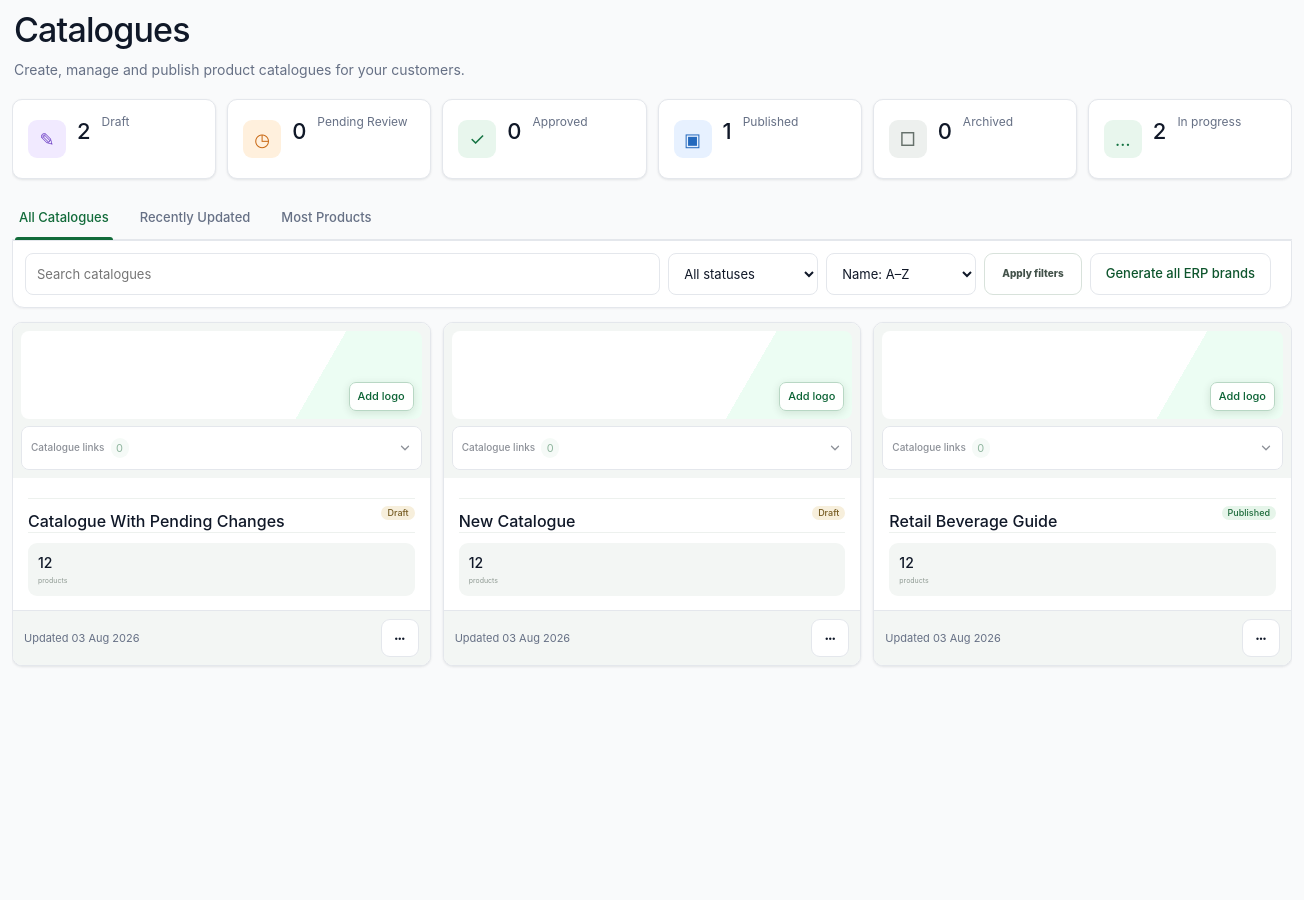
Test: CatalogueManagement preview action › shows lifecycle actions from public access and draft state
The width and height of the screenshot is (1304, 900).
Click the button named "More catalogue actions".
click(1261, 638)  # box [1242, 619, 1280, 657]
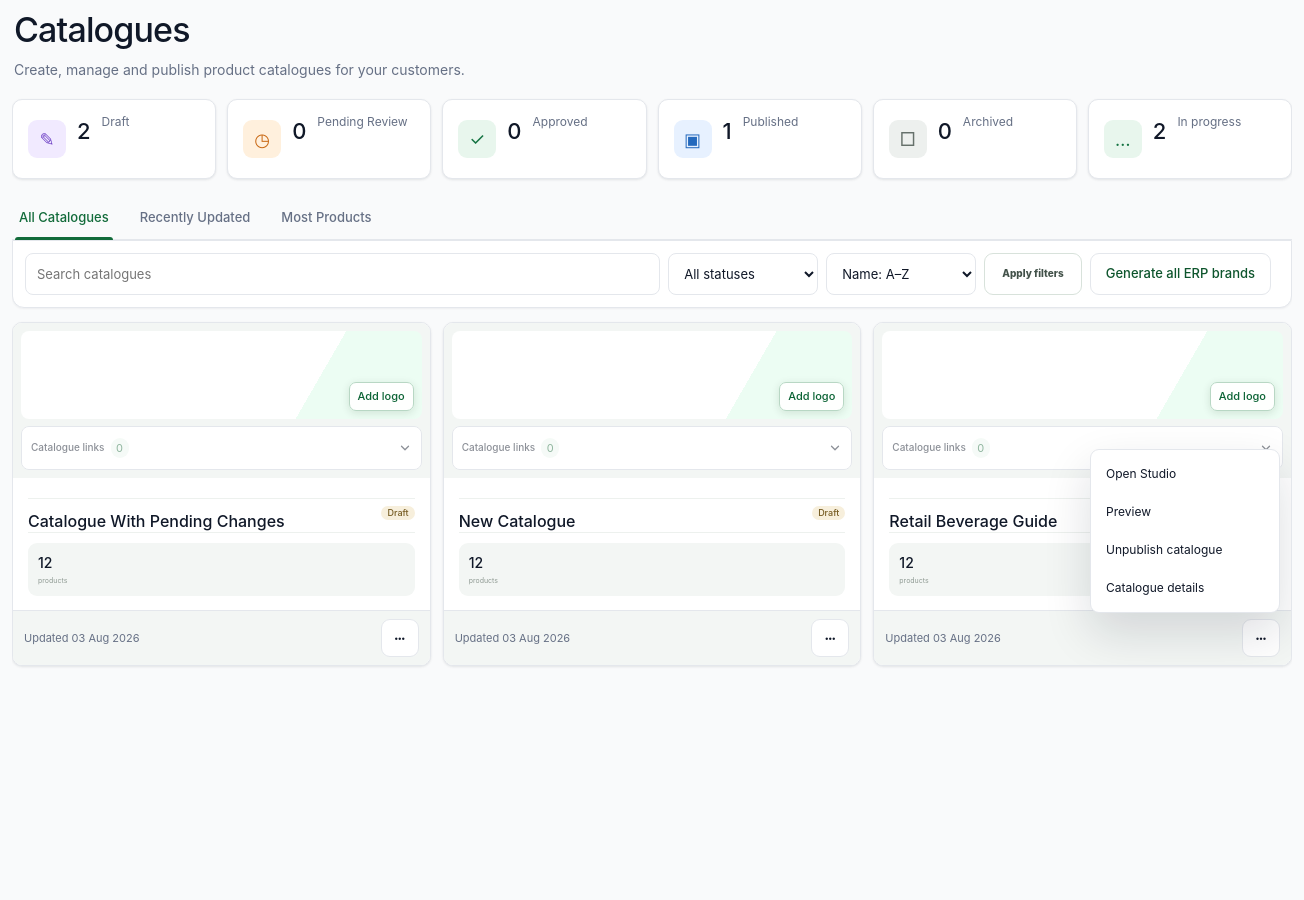
Expected: the menu item "Unpublish catalogue" is shown, [1096, 531, 1274, 569]
Click the button named "More catalogue actions".
click(400, 638)  # box [381, 619, 419, 657]
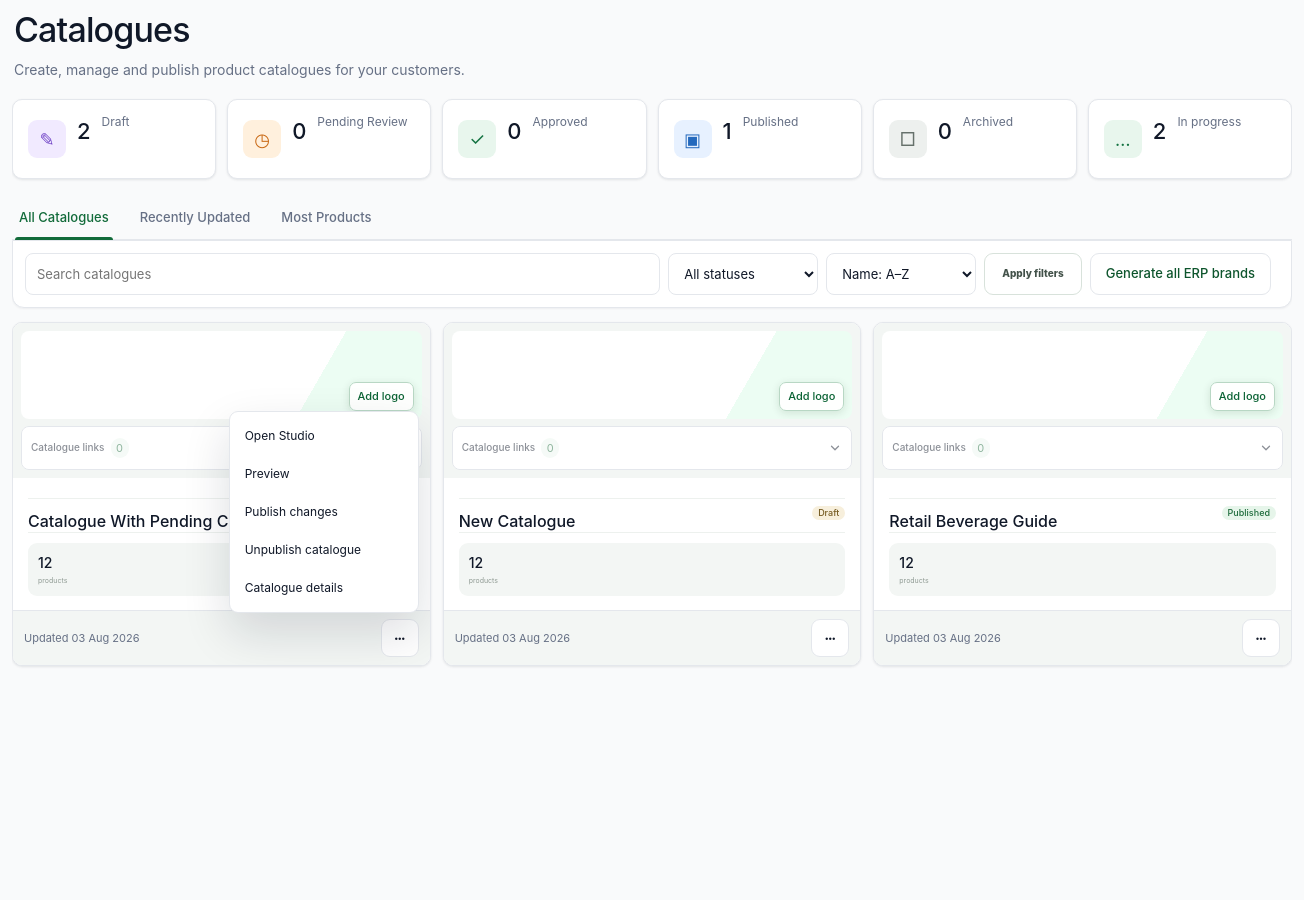
Expected: the menu item "Unpublish catalogue" is shown, [235, 531, 413, 569]
Expected: the menu item "Publish changes" is shown, [235, 493, 413, 531]
Click the button named "More catalogue actions".
click(830, 638)  # box [811, 619, 849, 657]
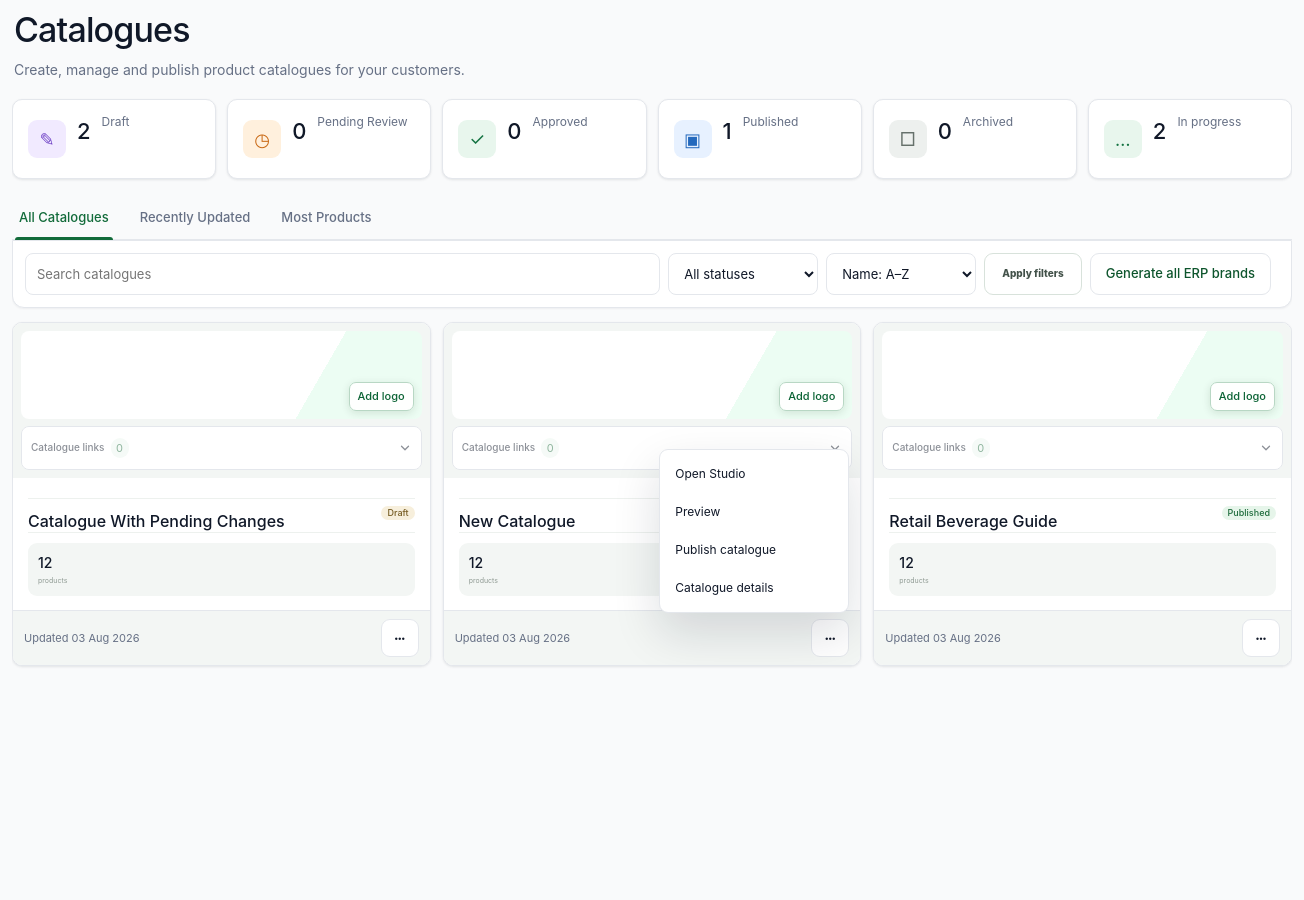
Expected: the menu item "Publish catalogue" is shown, [665, 531, 843, 569]
Expected: the menu item "Unpublish catalogue" is gone
